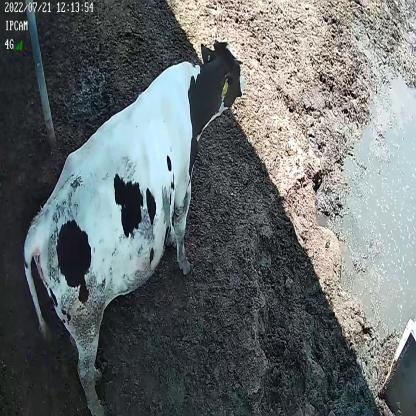cow: (20, 37, 246, 416)
